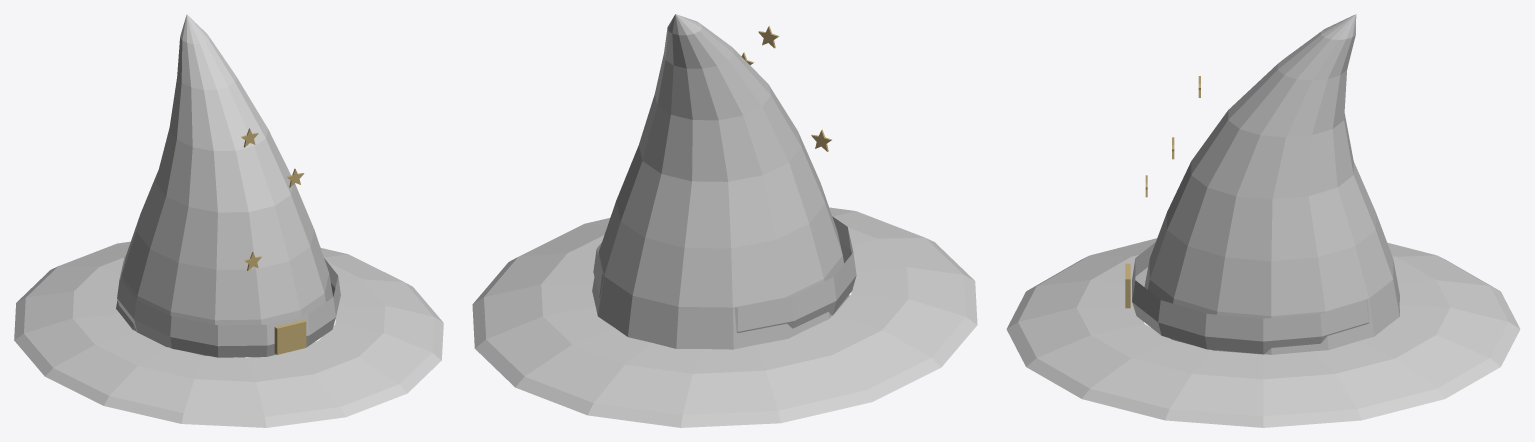
The model's file is acc_hat_wizard_v01.glb.
3 views of the same model, side by side, from view 1: azimuth 30°, elevation 25°; view 2: azimuth 150°, elevation 25°; view 3: azimuth 270°, elevation 25° (orthographic). The views are drawn at different scales.
Parts seen in each view (by area): view 1: acc_hat_wizard; view 2: acc_hat_wizard; view 3: acc_hat_wizard.
Part boxes in pixels (x1,y1,x2,y2): acc_hat_wizard: (14,14,443,427); acc_hat_wizard: (472,14,977,427); acc_hat_wizard: (1006,14,1520,427).
Size of the model in its own units: 0.88 by 0.655 by 0.968.
